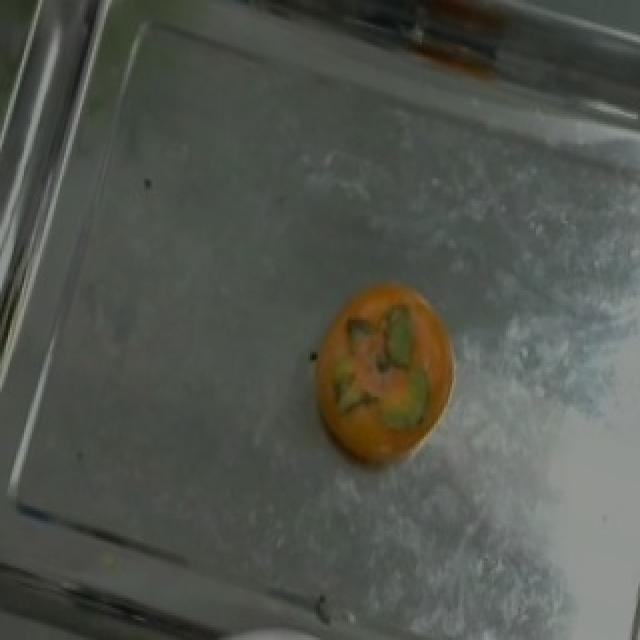Fruit: (292, 260, 470, 484)
